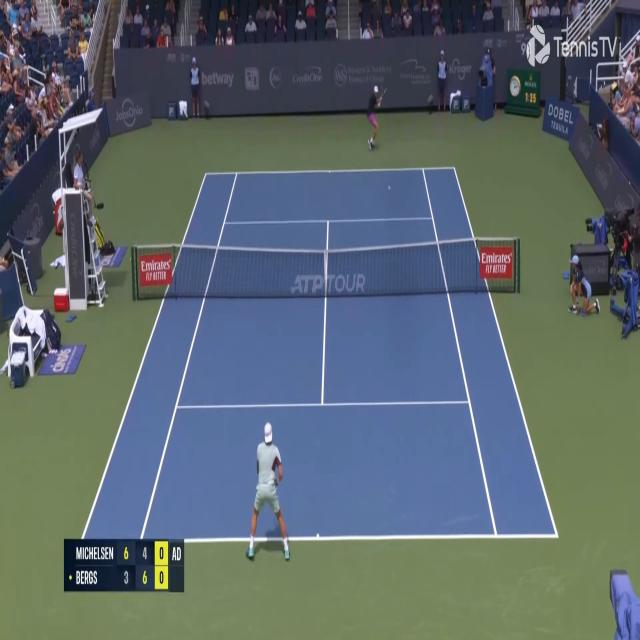tennis-player: (246, 418, 294, 566), (364, 83, 382, 152)
